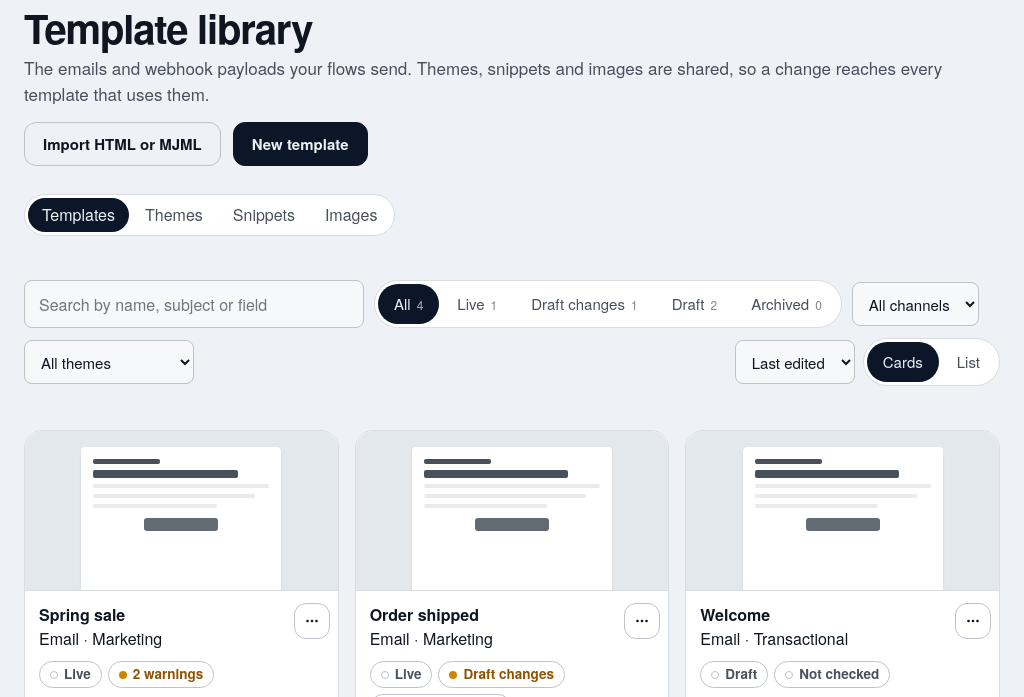
Test case: a template's menu › archives after a confirmation and reloads the list
What coordinates should you click on to do the following:
click the button named "Actions for Order shipped"
I would click on:
 (642, 621)
Its box is x1=624 y1=603 x2=660 y2=639.
(page scrolled)
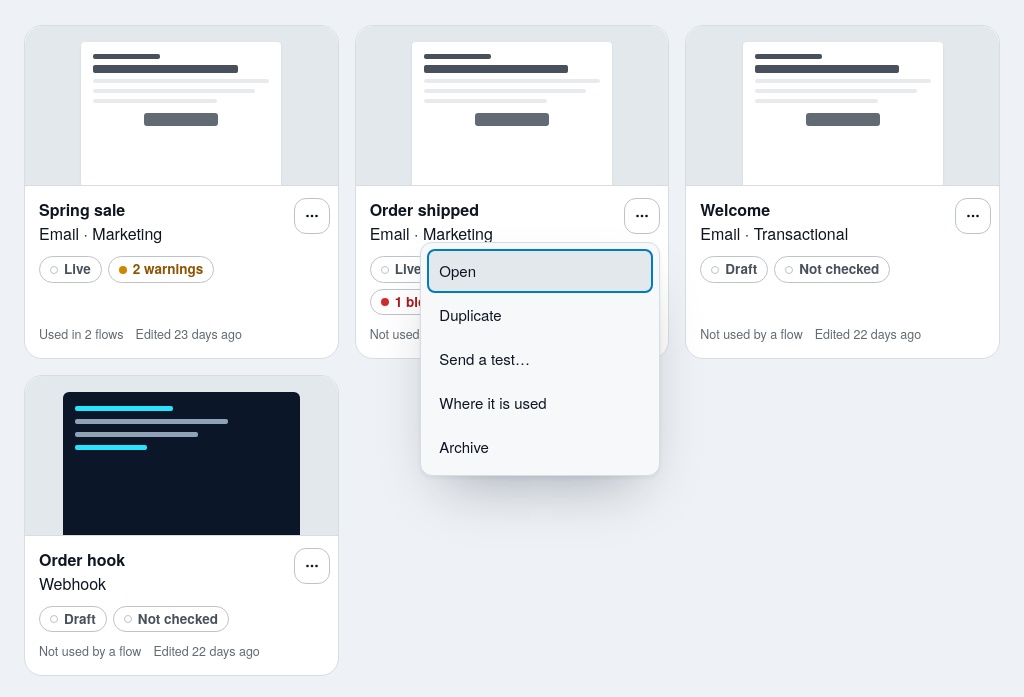
What coordinates should you click on to do the following:
click the menu item "Archive"
I would click on:
 (540, 447)
Its box is x1=427 y1=425 x2=653 y2=469.
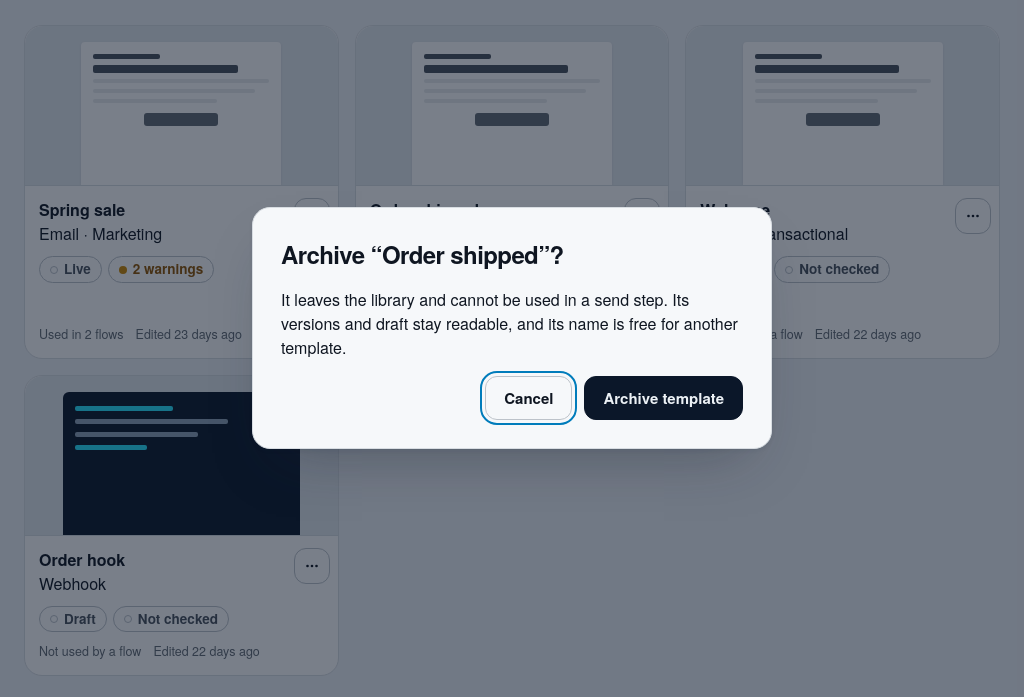
What coordinates should you click on to do the following:
click the button "Archive template"
I would click on:
 (664, 398)
Its box is x1=584 y1=376 x2=743 y2=420.
(page scrolled)
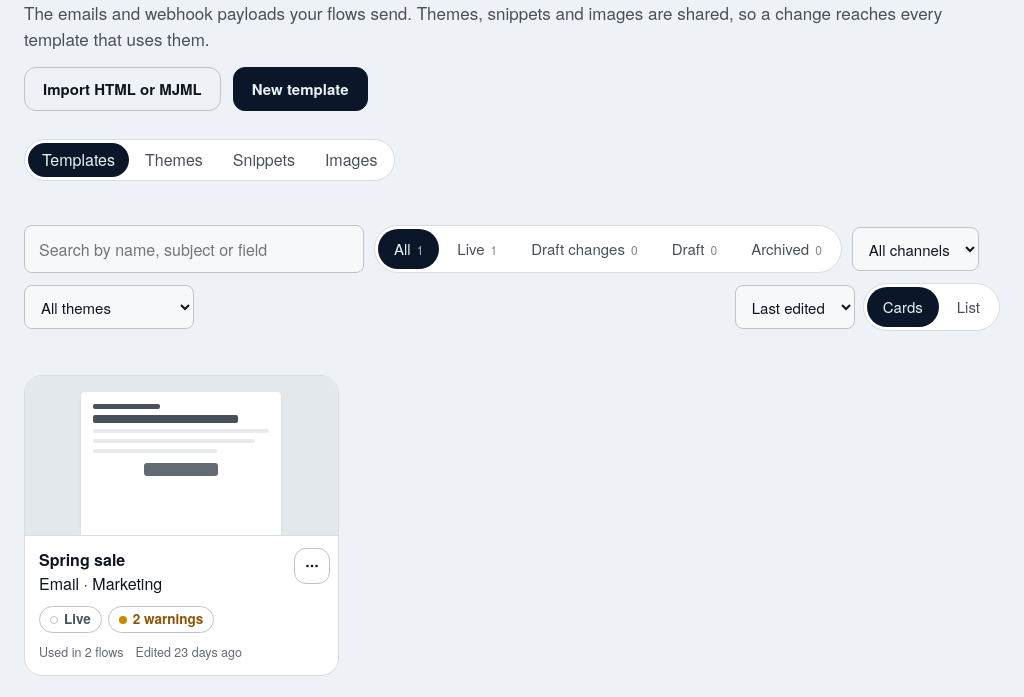
expect the link "Order shipped" is gone: met
